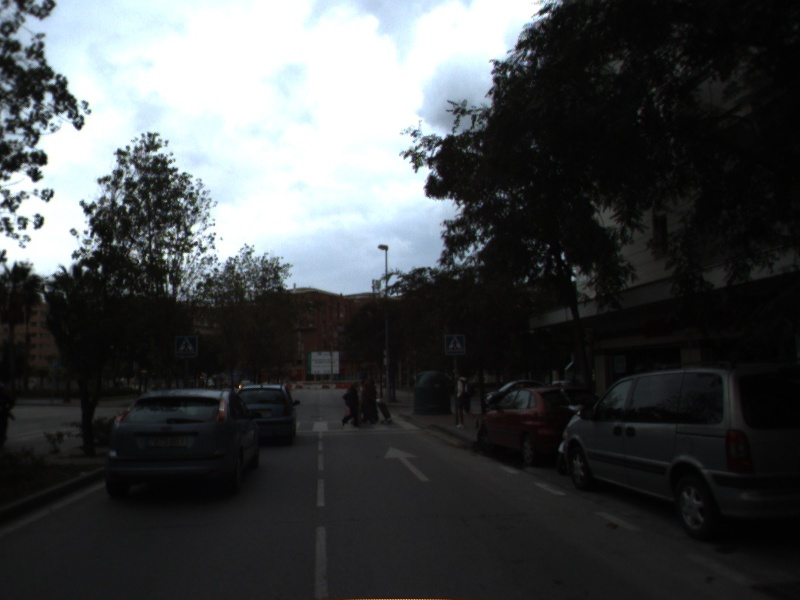STRAIGHT: (382, 445, 433, 483)
